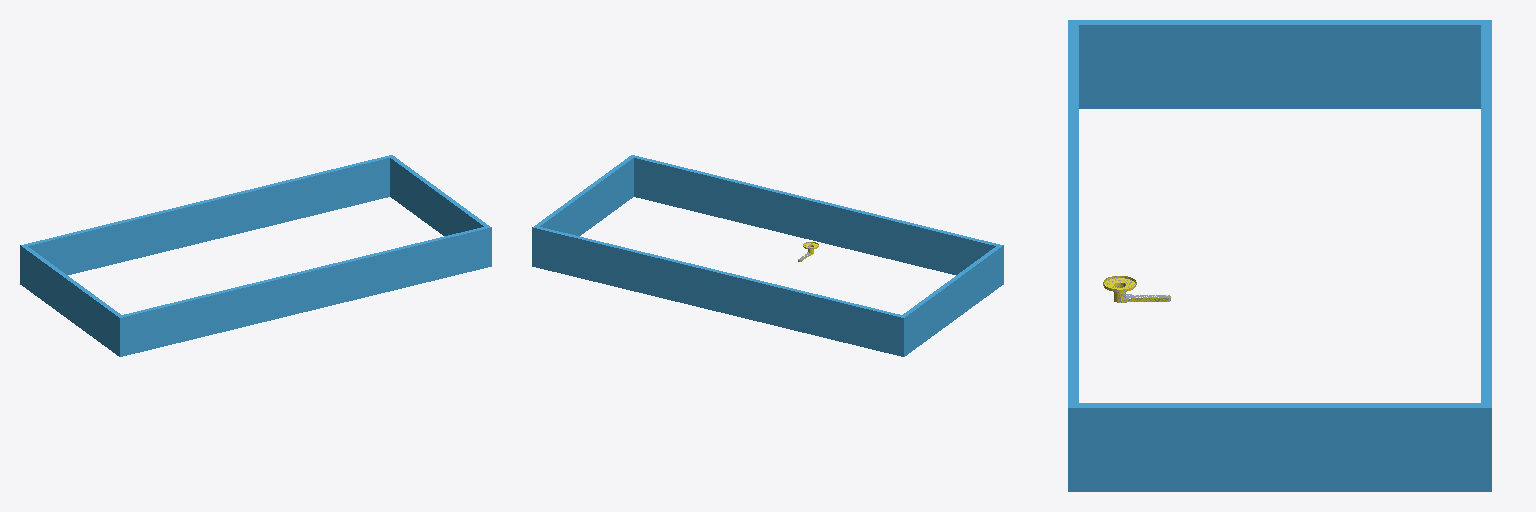
robot.urdf — right-pull-door:
<robot name="right-pull-door">
	<link name="base" />
	<link name="link_0">
		<visual name="out-frame">
			<origin xyz="0 0 0" />
			<geometry>
				<mesh filename="texture_dae/frame.dae" scale="1.0170325701021419 1.0170325701021419 1.0170325701021419" />
			</geometry>
		</visual>
		<collision>
			<origin xyz="0 0 0" />
			<geometry>
				<mesh filename="texture_dae/frame.dae" scale="1.0170325701021419 1.0170325701021419 1.0170325701021419" />
			</geometry>
		</collision>
	</link>
	<joint name="joint_0" type="fixed">
		<origin rpy="1.570796326794897 0 -1.570796326794897" xyz="0 0 0" />
		<child link="link_0" />
		<parent link="base" />
	</joint>
	<link name="link_1">
		<visual name="surf-board">
			<origin xyz="0.39397353871548446 -0.8835841164585663 0" />
			<geometry>
				<mesh filename="texture_dae/board.dae" scale="1.0170325701021419 1.0170325701021419 1.0170325701021419" />
			</geometry>
		</visual>
		<collision>
			<origin xyz="0.39397353871548446 -0.8835841164585663 0" />
			<geometry>
				<mesh filename="texture_dae/board.dae" scale="1.0170325701021419 1.0170325701021419 1.0170325701021419" />
			</geometry>
		</collision>
	</link>
	<joint name="joint_1" type="revolute">
		<origin xyz="-0.39397353871548446 0.8835841164585663 0" />
		<axis xyz="0 -1 0" />
		<child link="link_1" />
		<parent link="link_0" />
		<limit lower="0" upper="1.5079644737231006" />
	</joint>
	<link name="link_2">
		<visual name="handle">
			<origin xyz="0 0 0" />
			<geometry>
				<mesh filename="texture_dae/9960014.dae" scale="0.8583211719425677 0.8583211719425677 0.8583211719425677" />
			</geometry>
		</visual>
		<collision>
			<origin xyz="0 0 0" />
			<geometry>
				<mesh filename="texture_dae/9960014.dae" scale="0.8583211719425677 0.8583211719425677 0.8583211719425677" />
			</geometry>
		</collision>
	</link>
	<joint name="joint_2" type="revolute">
		<origin xyz="0.7088175702870454 -0.9529268191800144 0.030621241140837463" />
		<child link="link_2" />
		<parent link="link_1" />
		<axis xyz="0 0 1" />
		<limit lower="0" upper="0" />
	</joint>
</robot>

--- Facts derived from the render (not from the file) ---
The picture shows the robot from 3 angles, left to right: view 1: azimuth 30°, elevation 25°; view 2: azimuth 150°, elevation 25°; view 3: azimuth 270°, elevation 25°; orthographic projection.
Robot: right-pull-door — 4 links, 3 joints (2 revolute, 1 fixed); root link base; default pose: every joint at zero.
Links seen in each view (by area): view 1: link_0; view 2: link_0; view 3: link_0, link_2.
Boxes of the visible links, x1,y1,x2,y2 form: link_0: [20, 155, 491, 356]; link_0: [532, 155, 1003, 356]; link_0: [1068, 20, 1491, 491]; link_2: [1103, 276, 1170, 302].
Size in the robot's own frame: 1.8 by 0.8326 by 0.1986 metres.
2 mesh visuals loaded from 3 distinct referenced files (2 Collada DAE); not drawn: 1 (reference not matched to a file when rendering).
